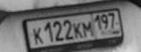license-plateSW: (23, 9, 123, 50)
